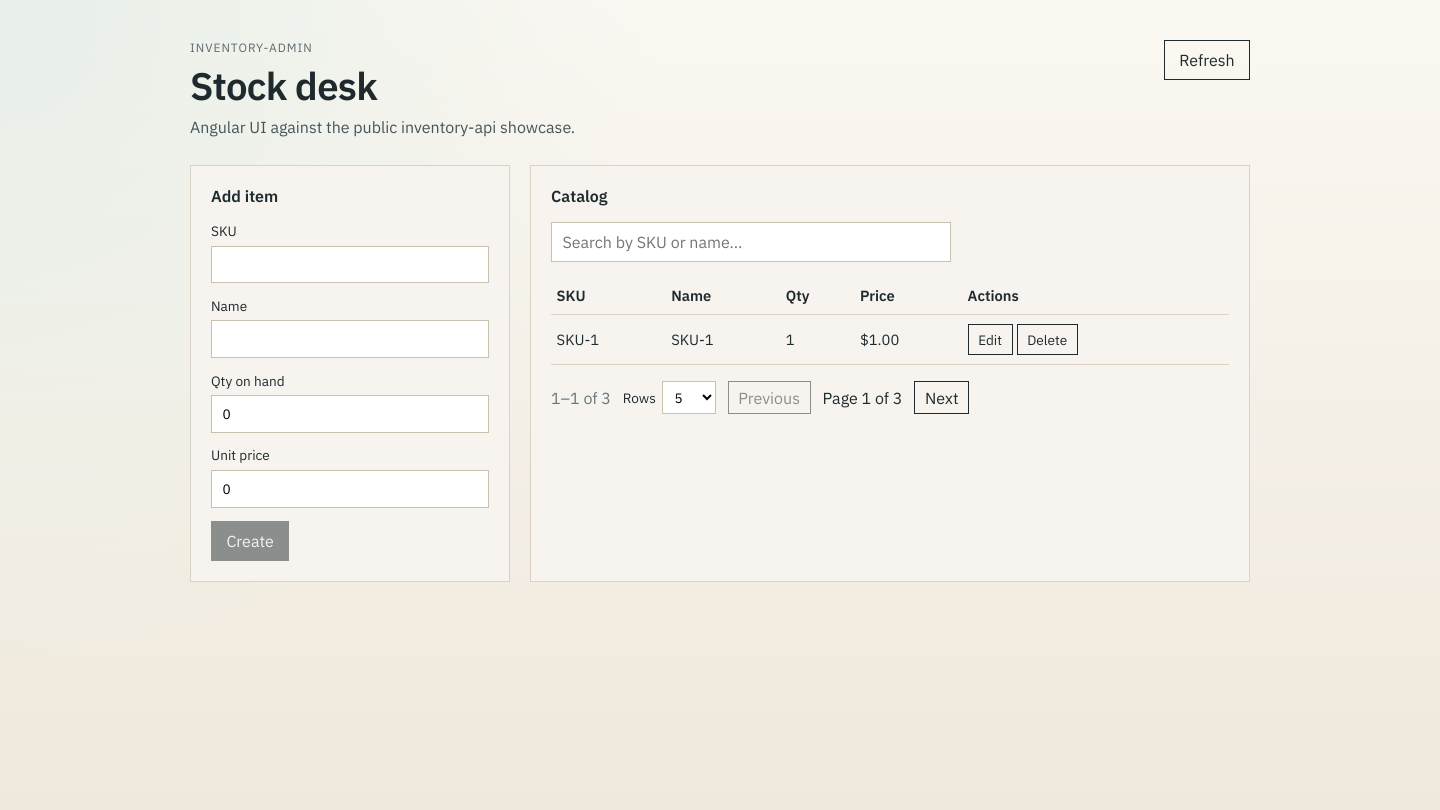
ItemsPageComponent › shows the next page of the catalog
Check: the text "SKU-2" is not shown
Click the button "Next".
click(942, 398)  # box [914,381,969,414]
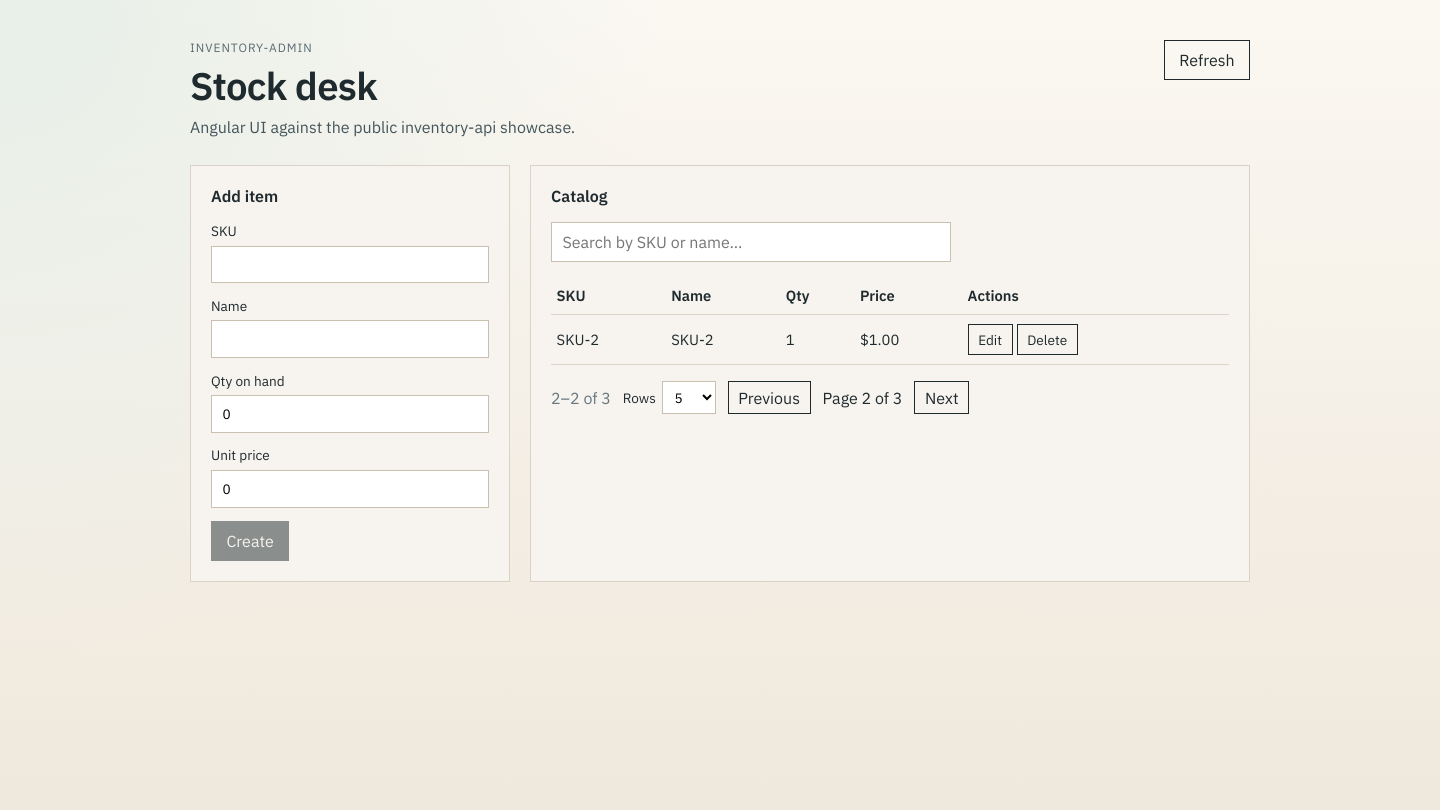
Check: the text "Page 2 of 3" is shown, box [822,388,902,408]
Check: the text "SKU-2" is shown, box [551,315,666,364]
